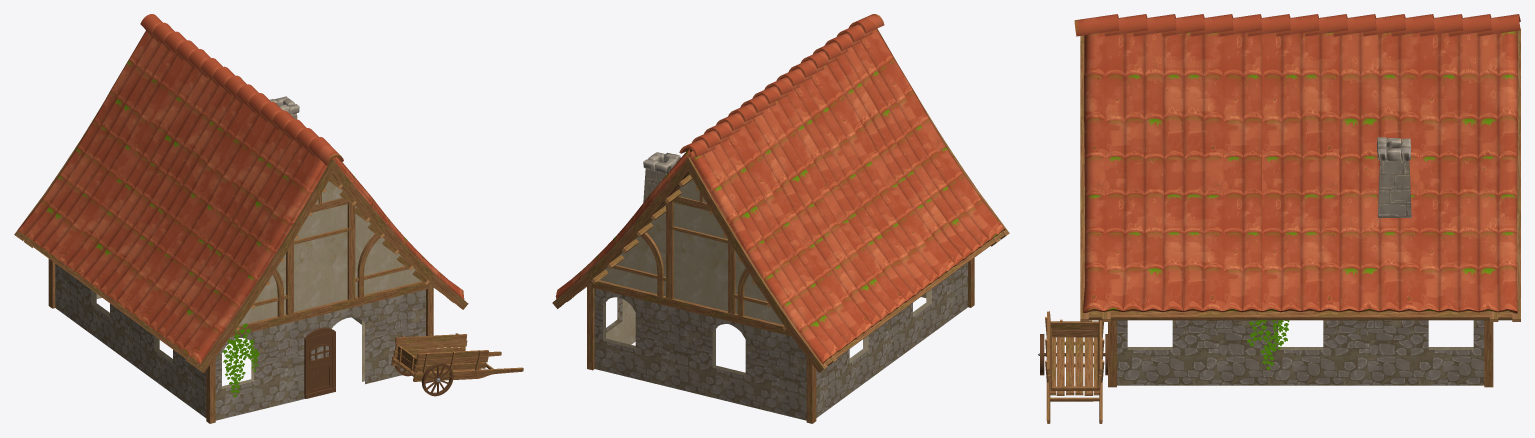
File: med-hall.glb
3 views of the same model, side by side, from view 1: azimuth 30°, elevation 25°; view 2: azimuth 150°, elevation 25°; view 3: azimuth 270°, elevation 25° (orthographic). The views are drawn at different scales.
Parts seen in each view (by area): view 1: med-hall; view 2: med-hall; view 3: med-hall.
Boxes of the visible parts, x1,y1,x2,y2 form: med-hall: (14,14,523,423); med-hall: (552,14,1009,423); med-hall: (1038,14,1520,423).
Size of the model in its own units: 11.45 by 9 by 12.83.
Materials: 8 (7 with a texture image).
